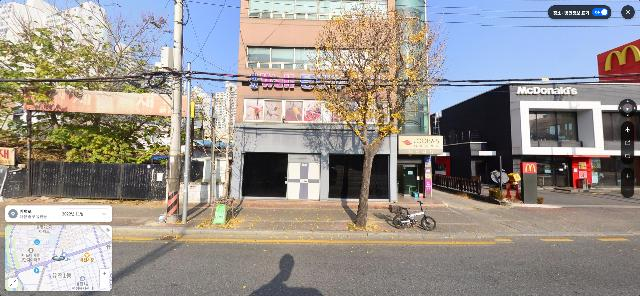ginkgo: (303, 0, 450, 227)
other: (1, 0, 174, 166), (190, 86, 244, 220)
